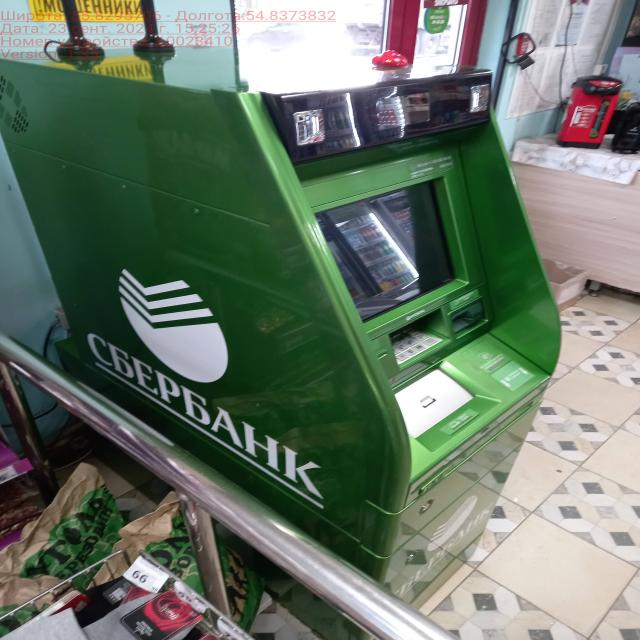bank: (0, 50, 565, 618)
